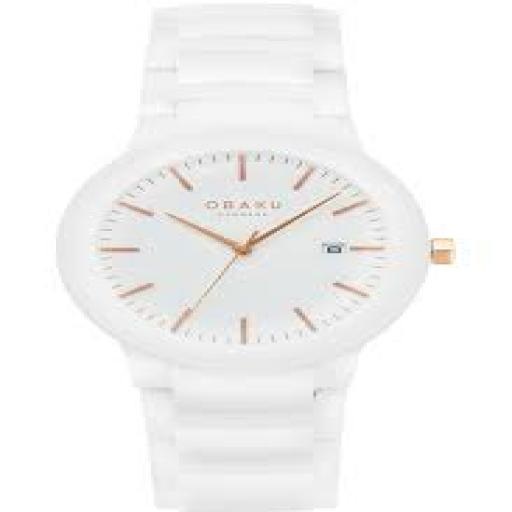KolSaati: (25, 6, 481, 512)
